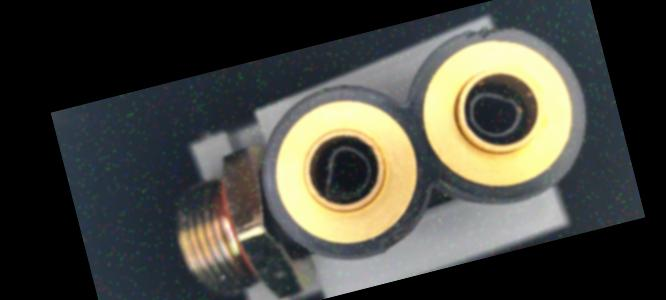bump: (369, 218, 425, 263), (456, 18, 520, 51)
off-centered: (453, 70, 541, 155), (306, 137, 381, 209)
